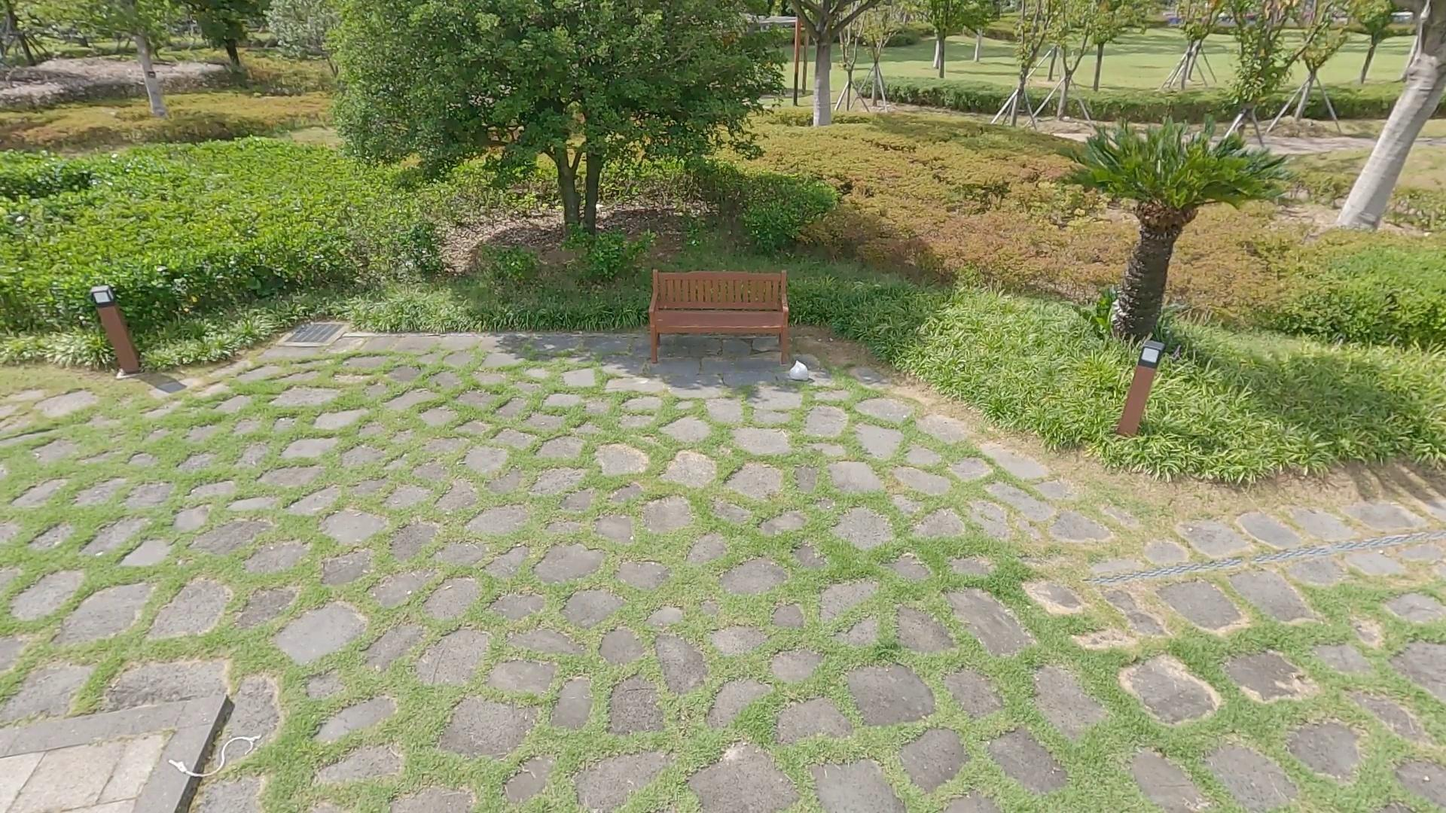trash: (785, 356, 819, 384)
